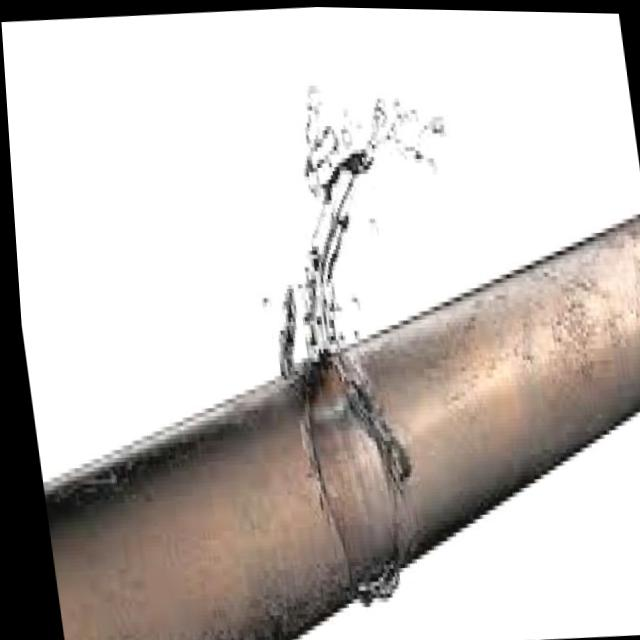leak: (270, 68, 505, 363)
